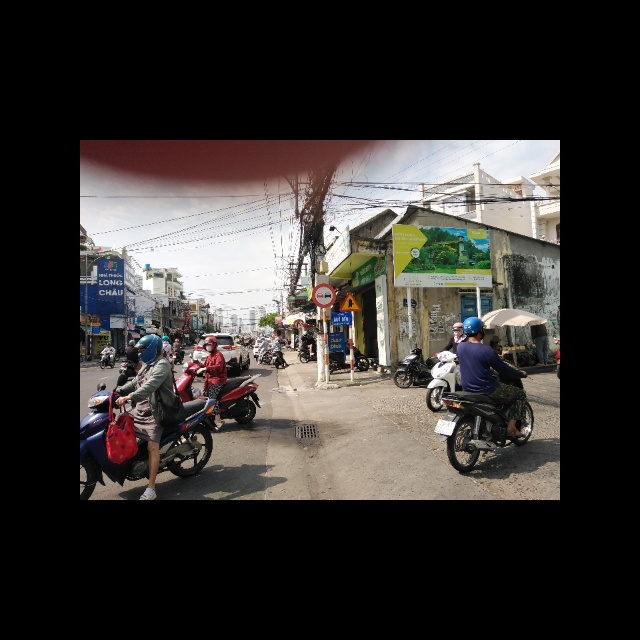Cấm vượt: (311, 283, 336, 308)
Giao nhau với đường không ưu tiên: (340, 290, 363, 312)
